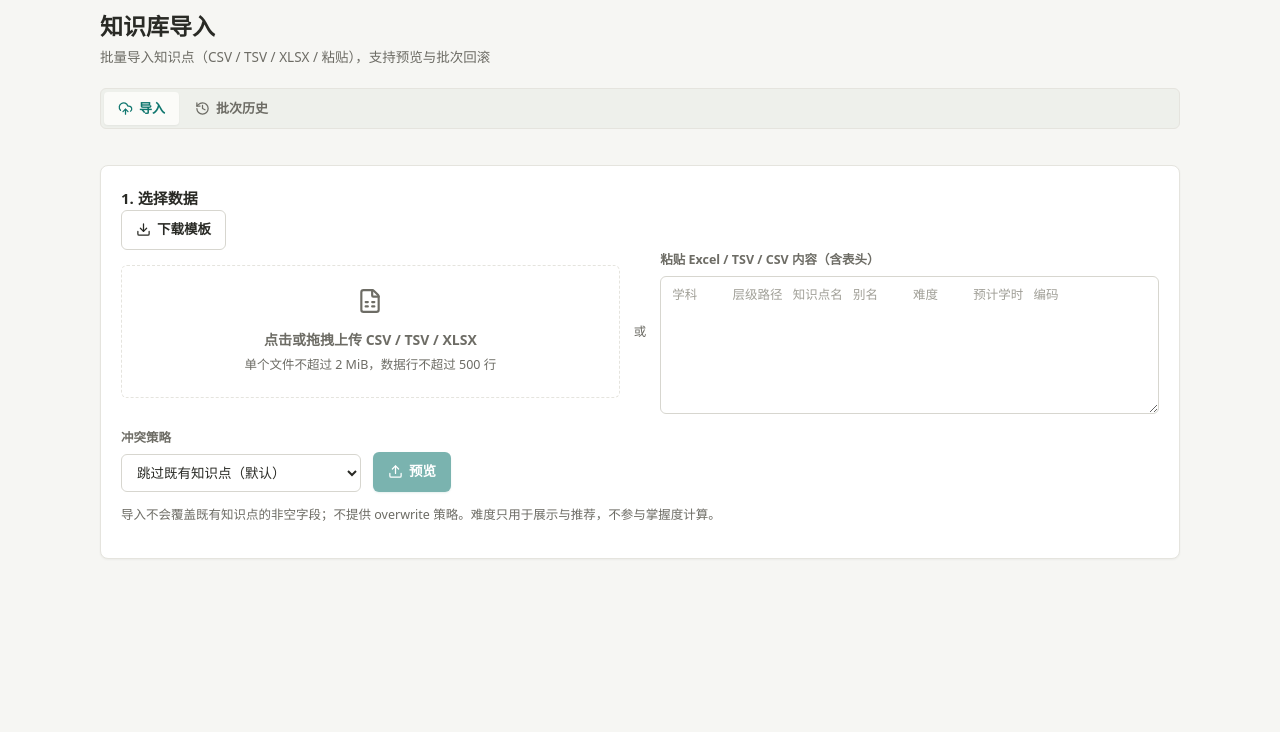
it: AdminKnowledgeImportView › 模板下载失败时提示中文错误
What coordinates should you click on to do the following:
click the button "下载模板"
I would click on:
 (174, 230)
Its box is [121,210,226,250].
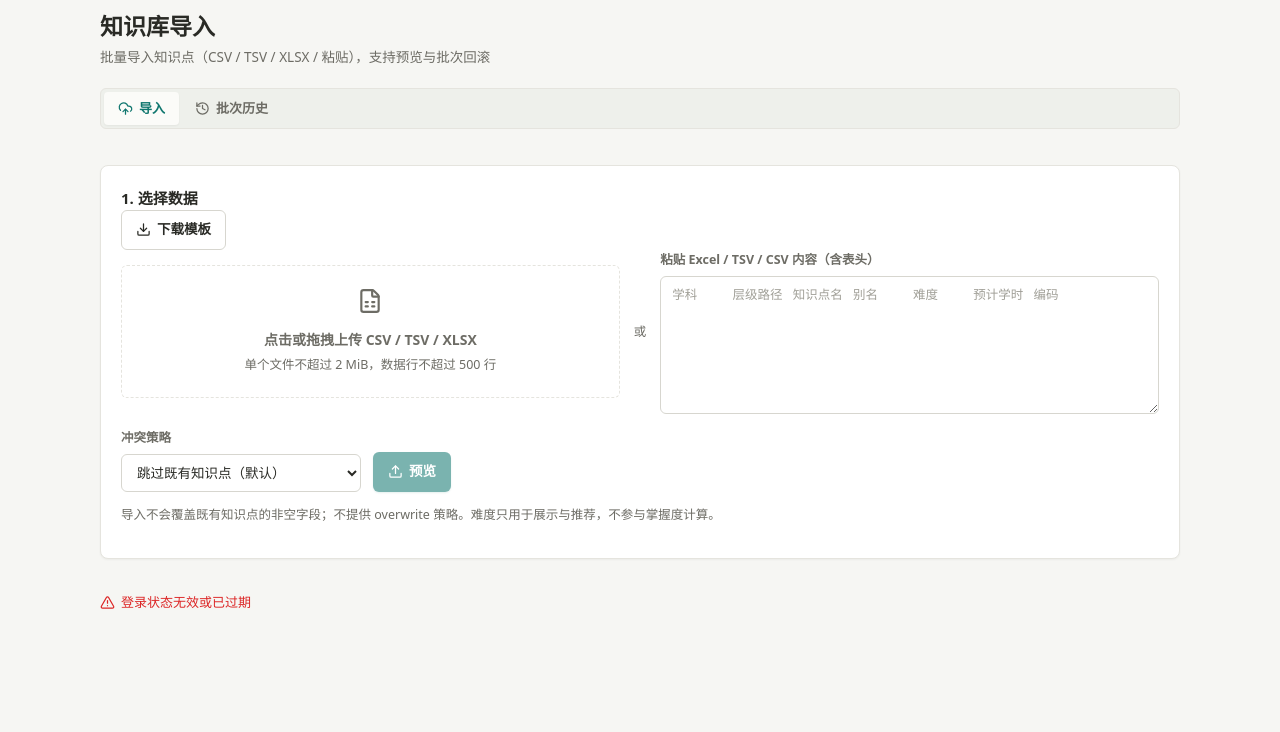
Now the text "登录状态无效或已过期" is shown, box [100,593,251,611]
